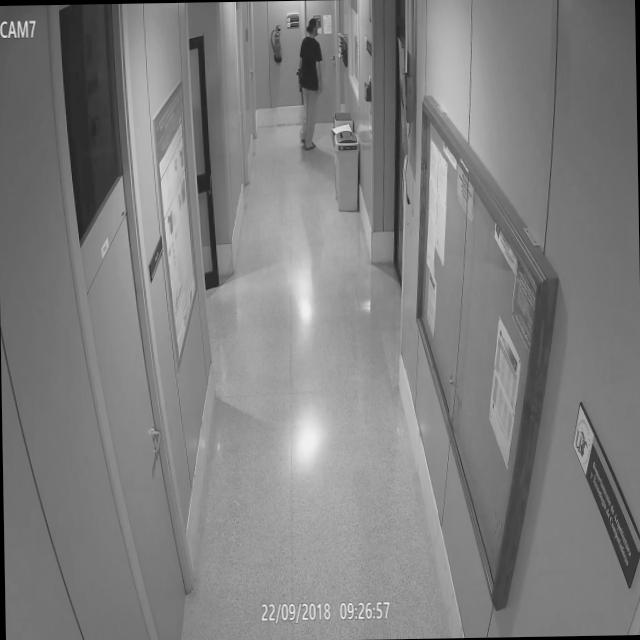gun: (294, 62, 305, 106)
person with a gun: (300, 11, 326, 153)
